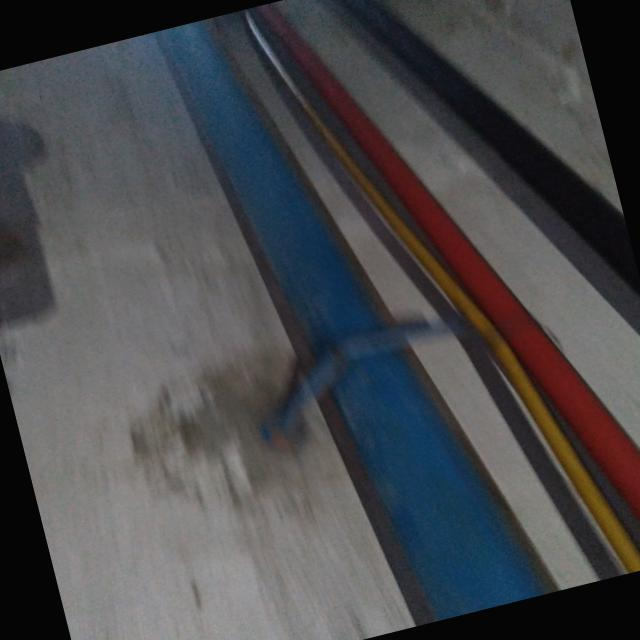gas: (158, 19, 558, 625), (251, 0, 640, 516), (329, 0, 640, 289)
